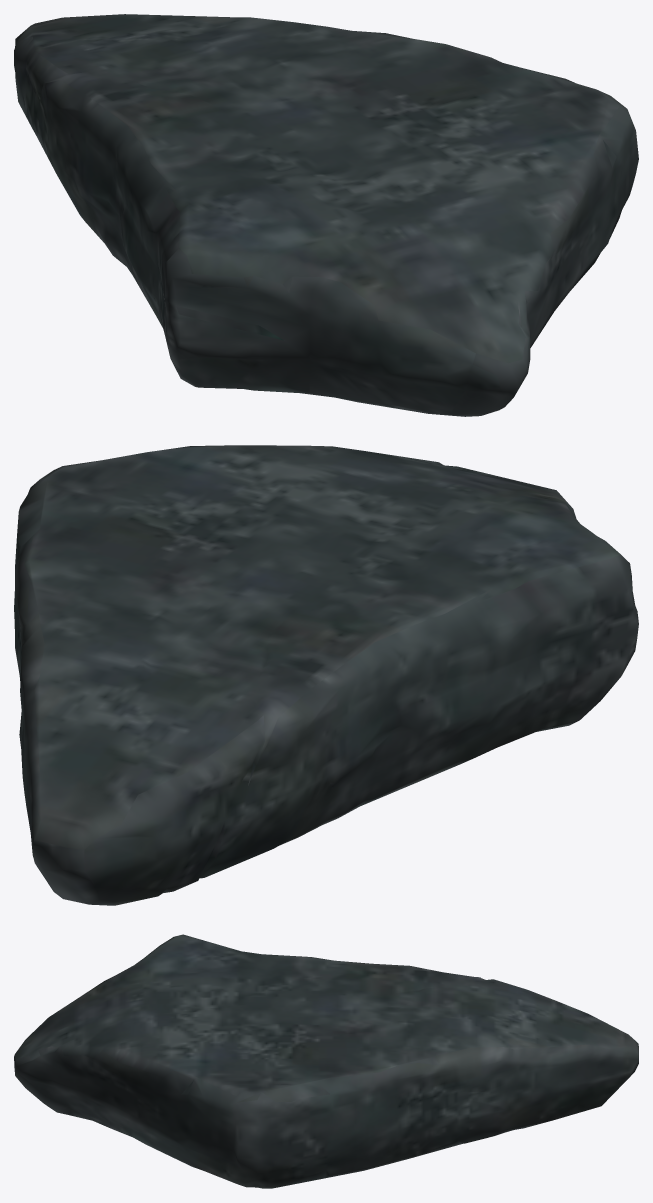
The picture shows the model from 3 angles, top to bottom: view 1: azimuth 30°, elevation 25°; view 2: azimuth 150°, elevation 25°; view 3: azimuth 270°, elevation 25°; orthographic projection. The views are drawn at different scales.
Visible parts, largest first — view 1: SM_US_VolcRock_01_v2_LOD0; view 2: SM_US_VolcRock_01_v2_LOD0; view 3: SM_US_VolcRock_01_v2_LOD0.
Boxes of the visible parts, x1,y1,x2,y2 form: SM_US_VolcRock_01_v2_LOD0: (14, 14, 638, 416); SM_US_VolcRock_01_v2_LOD0: (14, 445, 638, 905); SM_US_VolcRock_01_v2_LOD0: (14, 934, 638, 1188).
Size of the model in its own units: 1.94 by 0.584 by 2.97.
Materials: 1 (1 with a texture image).
